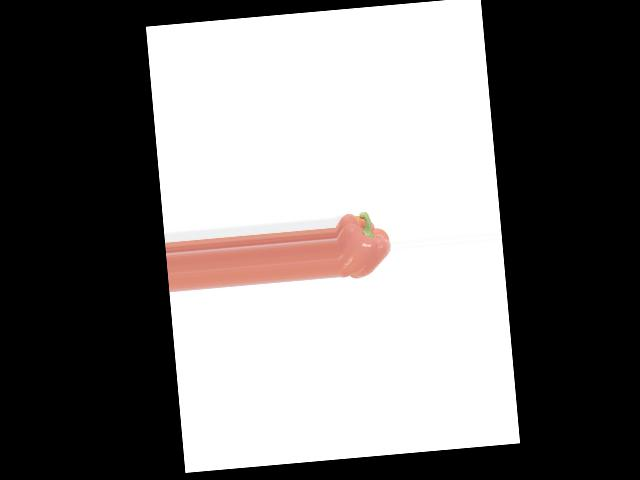bell_pepper: (333, 200, 394, 287)
